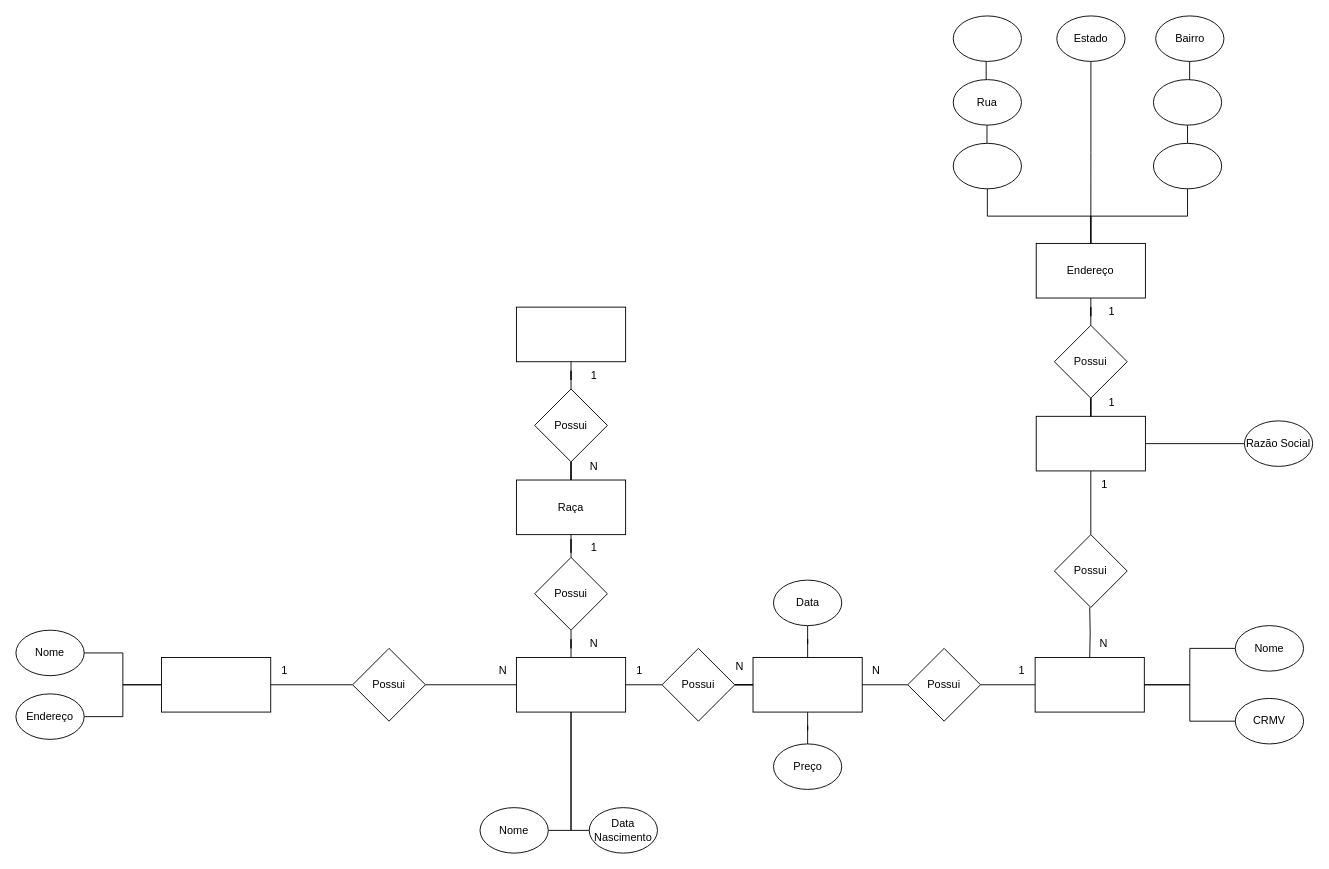
The diagram is 1329 pixels wide and 869 high, and some of its shapes have lost their labels. The centre of each missing label's shape, as x and y in pixels:
"Atendimento" belongs at (x=807, y=684).
"CEP" belongs at (x=1187, y=102).
"Cidade" belongs at (x=1187, y=165).
"Clinica" belongs at (x=1090, y=443).
"Complemento" belongs at (x=986, y=38).
"Dono" belongs at (x=216, y=684).
"Número" belongs at (x=986, y=165).
"Pet" belongs at (x=571, y=684).
"Tipo de Pet" belongs at (x=571, y=334).
"Veterinário" belongs at (x=1089, y=684).
